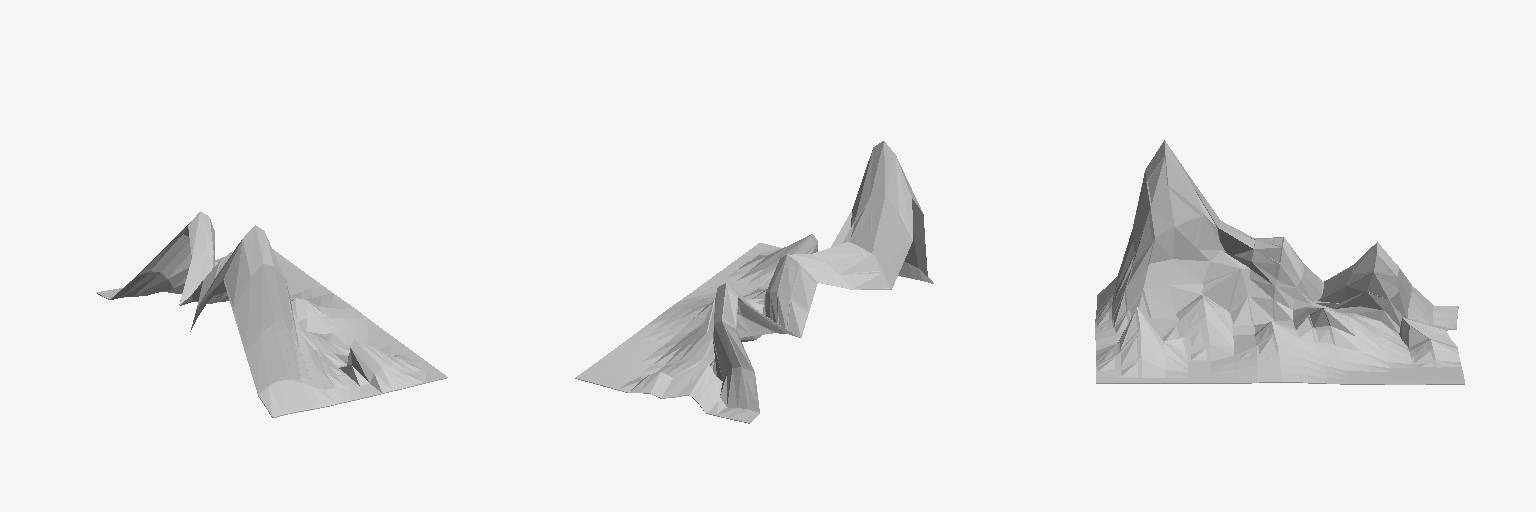
File: Mountains.obj
3 views of the same model, side by side, from view 1: azimuth 30°, elevation 25°; view 2: azimuth 150°, elevation 25°; view 3: azimuth 270°, elevation 25° (orthographic).
Parts seen in each view (by area): view 1: Cube; view 2: Cube; view 3: Cube.
Part boxes in pixels (bbox=[...]): Cube: bbox=[96, 211, 447, 417]; Cube: bbox=[575, 141, 933, 423]; Cube: bbox=[1095, 140, 1464, 384].
Size of the model in its own units: 36.19 by 29.98 by 57.44.